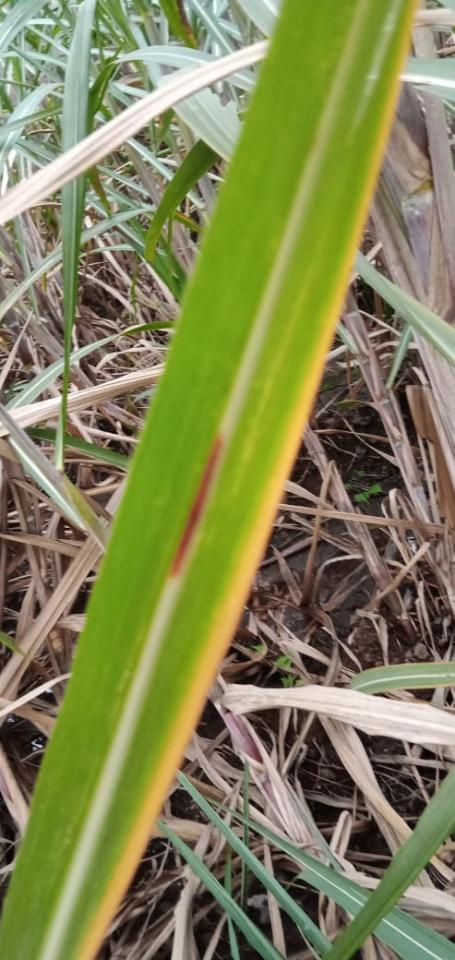RedRot: (163, 425, 229, 583)
Yellow: (70, 0, 418, 959), (237, 256, 311, 496)
